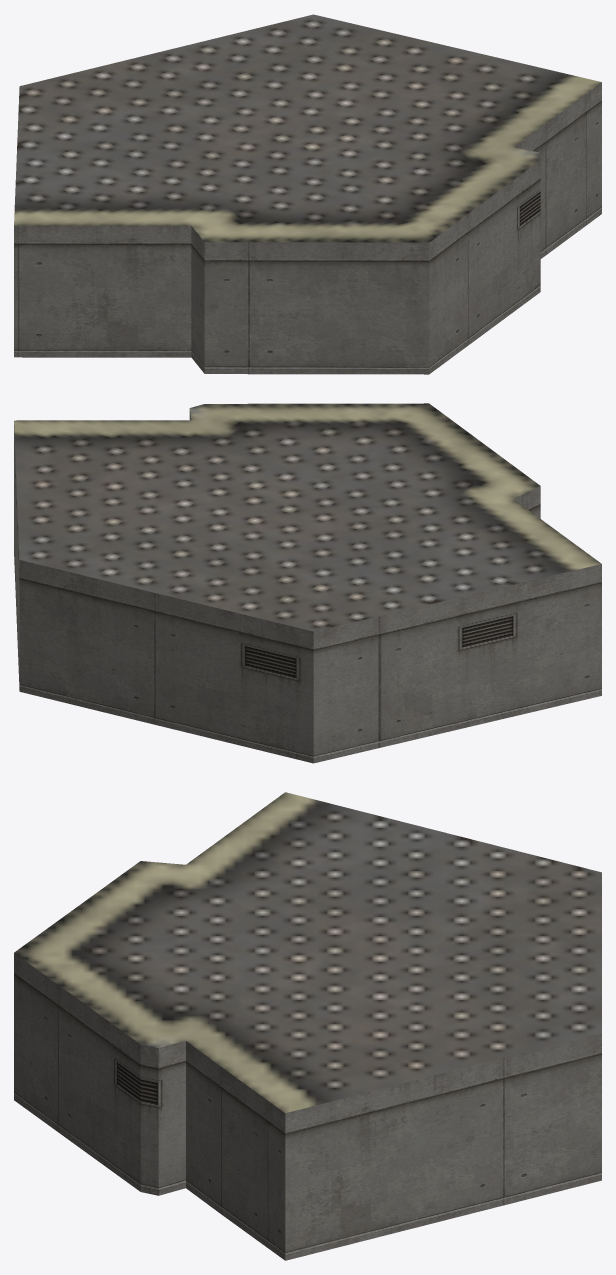
File: building_medium_a_35.glb
3 renders of one model, top to bottom at view 1: azimuth 30°, elevation 25°; view 2: azimuth 150°, elevation 25°; view 3: azimuth 270°, elevation 25°, orthographic. The views are drawn at different scales.
Visible parts, largest first — view 1: buildings/saxarba/building_medium/building_medium_a_35; view 2: buildings/saxarba/building_medium/building_medium_a_35; view 3: buildings/saxarba/building_medium/building_medium_a_35.
Part boxes in pixels (left/top/right/bottom): buildings/saxarba/building_medium/building_medium_a_35: left=14, top=14, right=601, bottom=374; buildings/saxarba/building_medium/building_medium_a_35: left=14, top=403, right=601, bottom=763; buildings/saxarba/building_medium/building_medium_a_35: left=14, top=792, right=601, bottom=1260.
Bounding box in the file's own units: 84 × 18 × 65.
